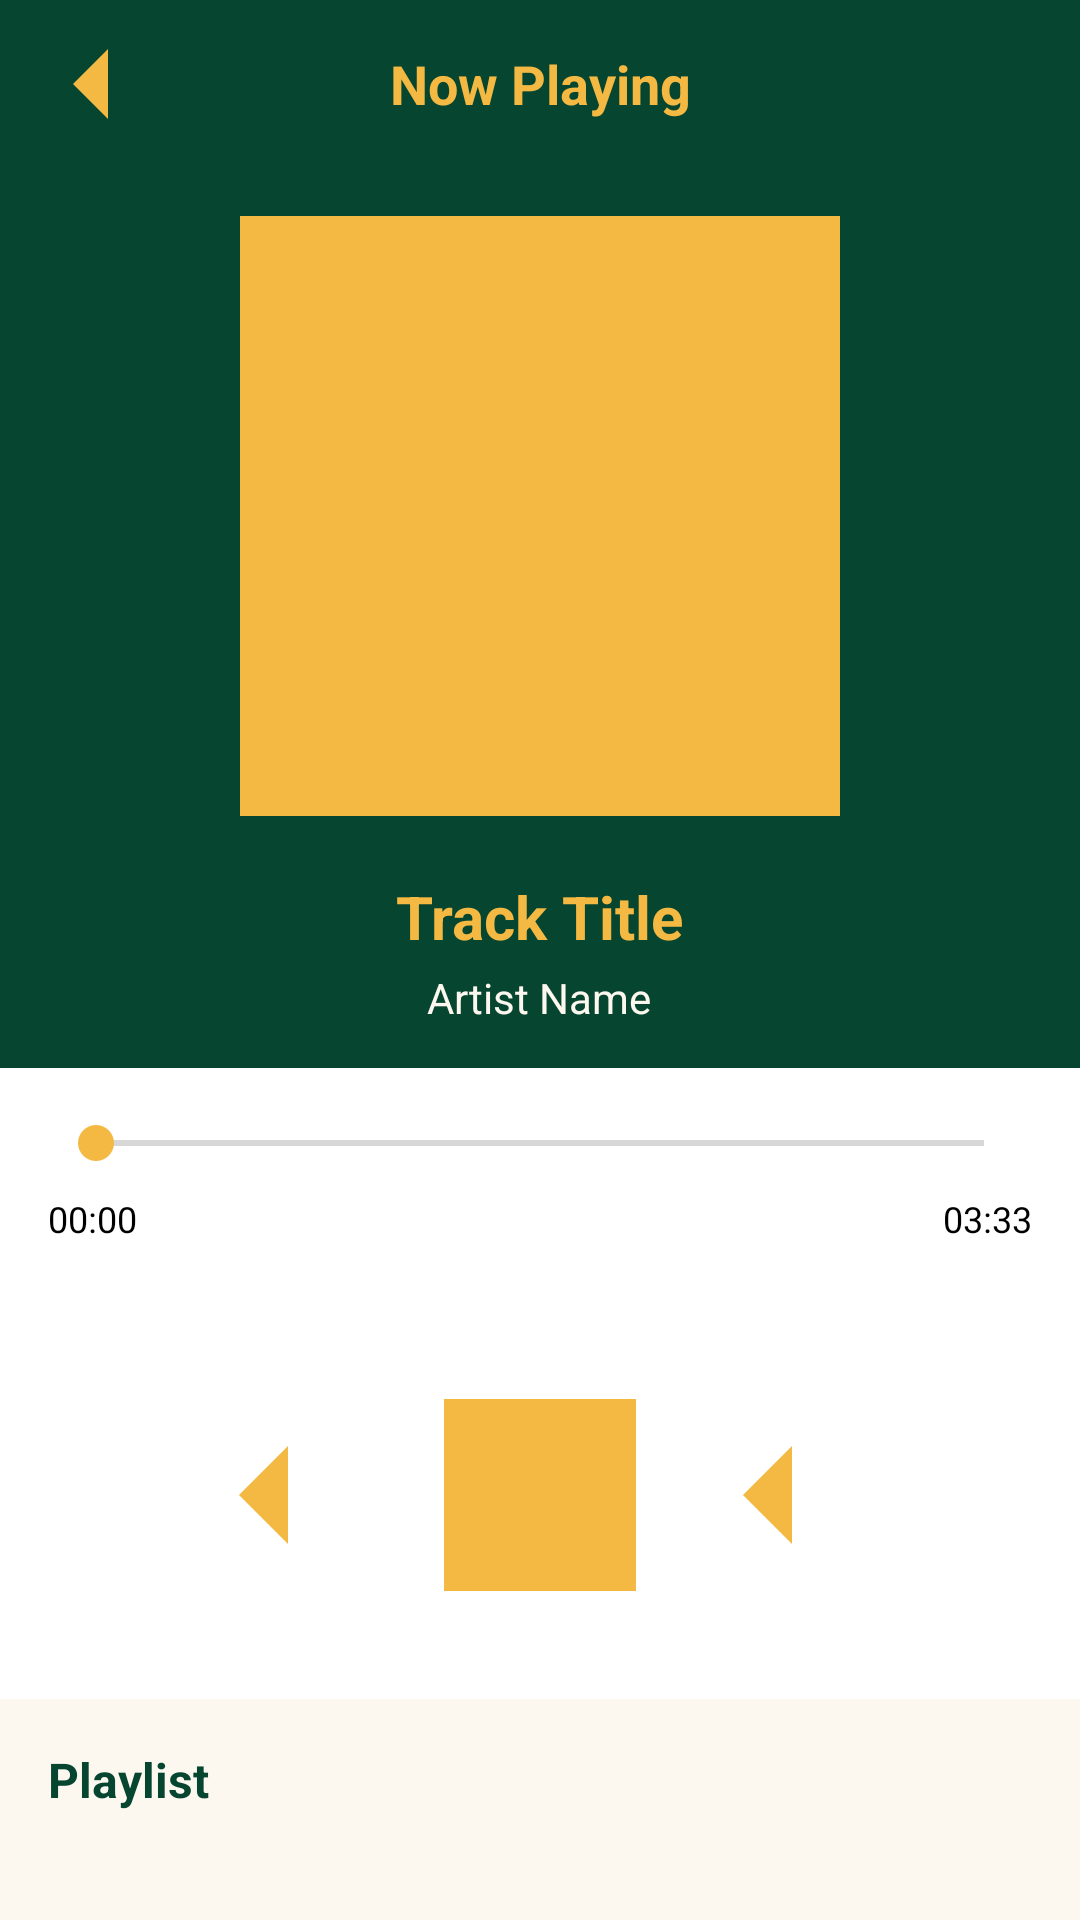

Named icons in this screenshot (1080px x 1920px) and their centers, point (x, y):
Previous: point (263, 1495)
